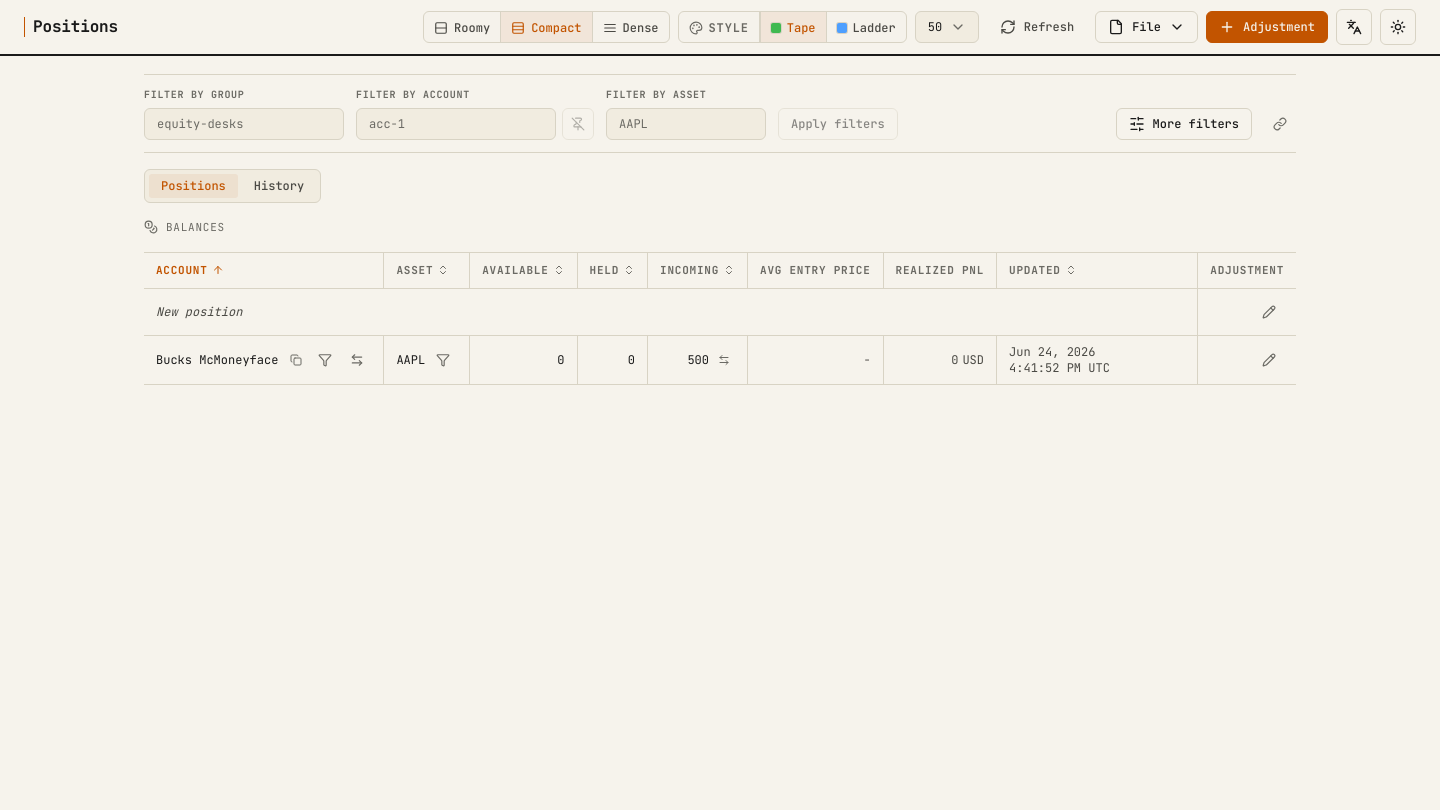
Test: Positions adjustment panel › disables adjustment submission while a numeric draft is invalid
Click the button named "open adjustment panel for bucks mcmoneyface aapl".
click(1269, 360)  # box [1254, 345, 1284, 375]
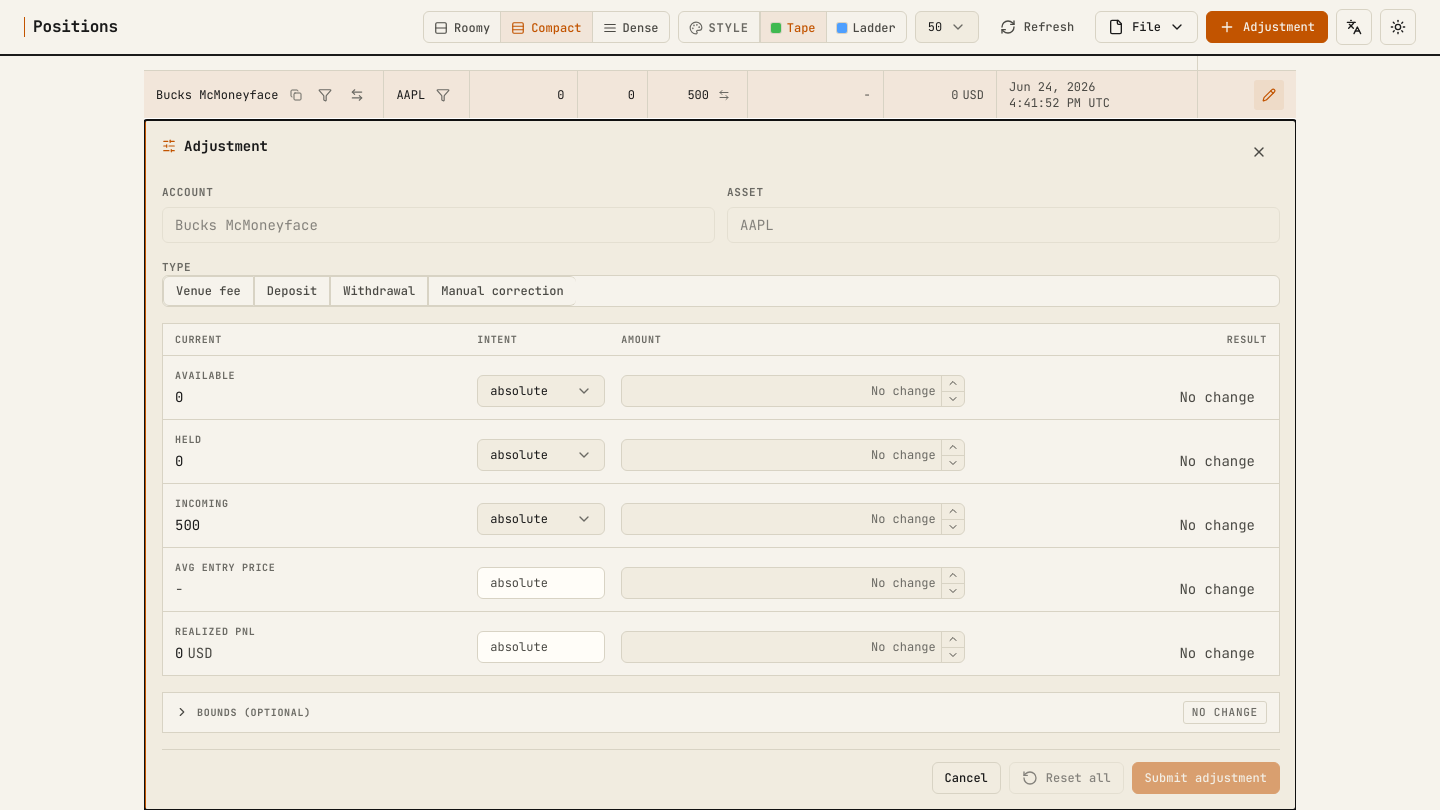
Type "600" into the field named "Available adjustment amount".
click(793, 391); type("600")  # box [621, 375, 965, 407]
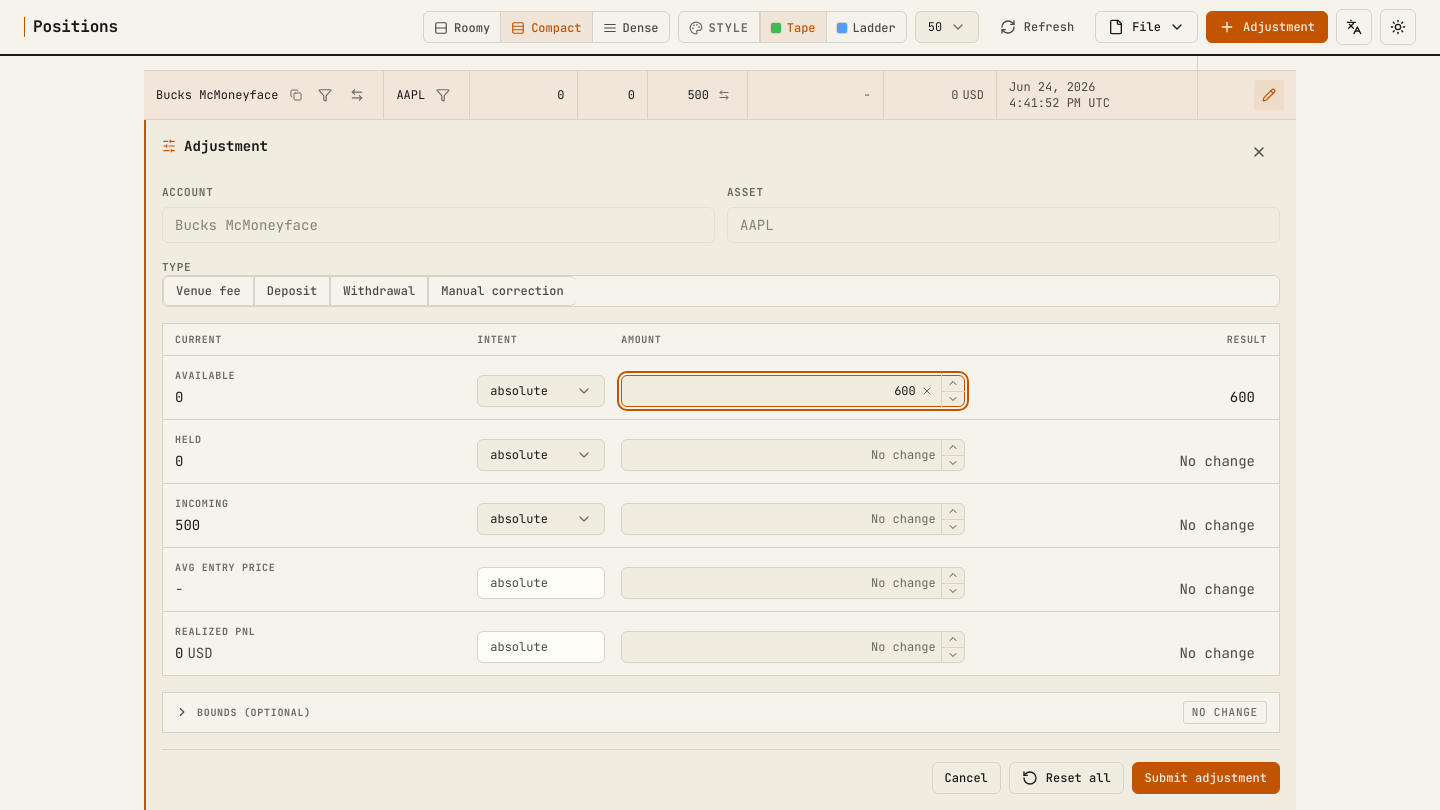
expect the button "Submit adjustment" is enabled: met, box [1132, 762, 1280, 794]
Type "x" into the field named "Available adjustment amount".
click(793, 391); type("x")  # box [621, 375, 965, 407]
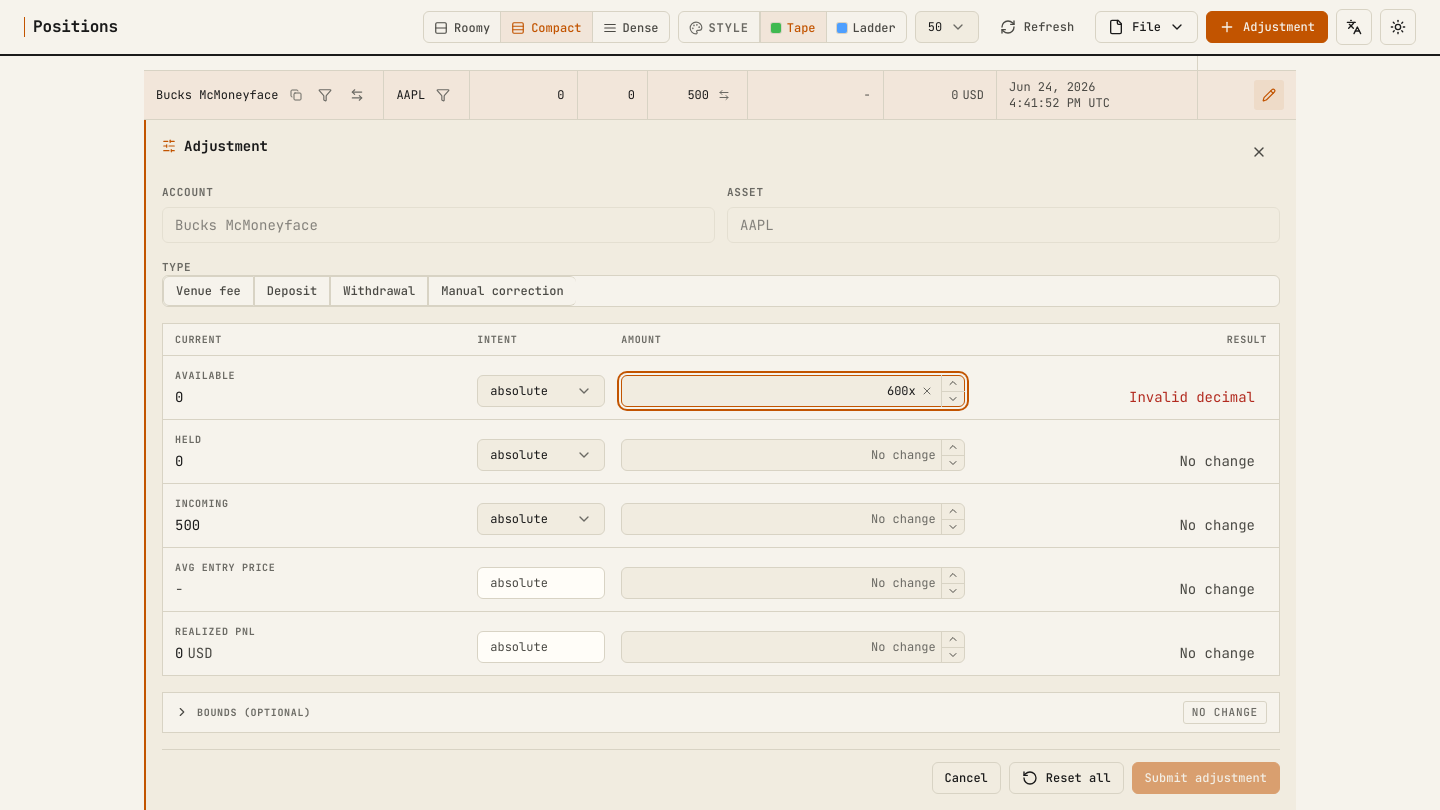
expect the field named "Available adjustment amount" holds "600x": met, box [621, 375, 965, 407]
expect the button "Submit adjustment" is disabled: met, box [1132, 762, 1280, 794]
